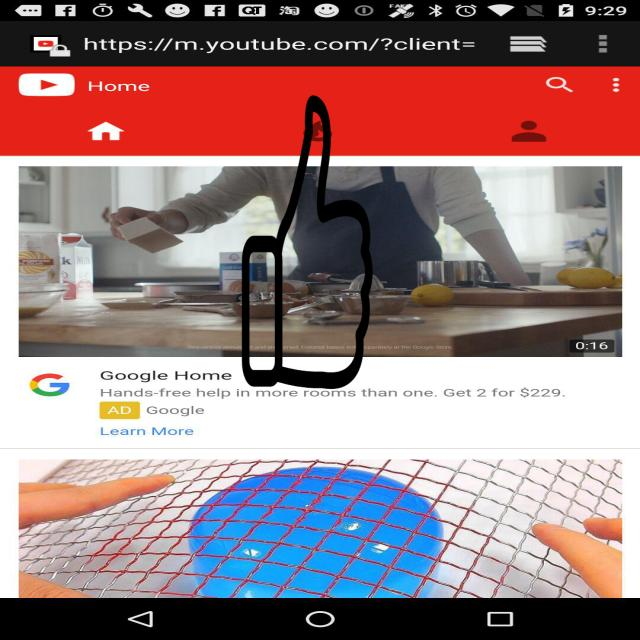privacy zuckering: (240, 95, 375, 389)
